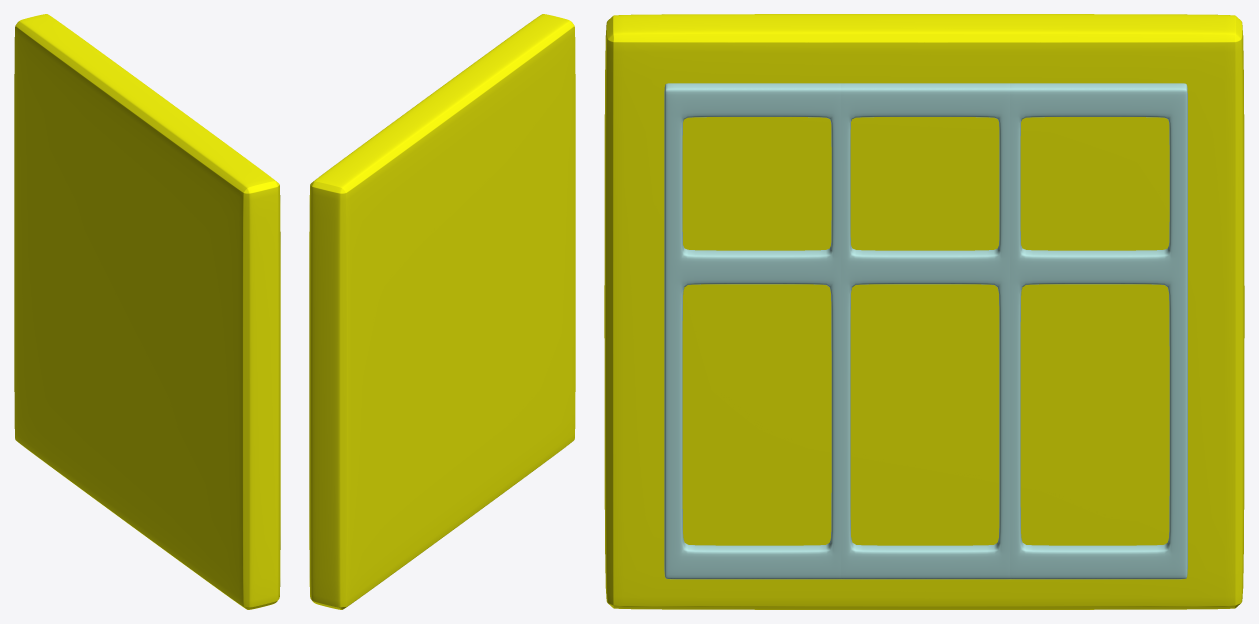
3 views of the same model, side by side, from view 1: azimuth 30°, elevation 25°; view 2: azimuth 150°, elevation 25°; view 3: azimuth 270°, elevation 25° (orthographic). The views are drawn at different scales.
Visible parts, largest first — view 1: polySurface1282; view 2: polySurface1282; view 3: polySurface1282.
Boxes of the visible parts, x1,y1,x2,y2 form: polySurface1282: [14, 14, 280, 609]; polySurface1282: [309, 14, 575, 609]; polySurface1282: [604, 14, 1244, 609].
Bounding box in the file's own units: 0.1218 × 0.9995 × 0.9995.
